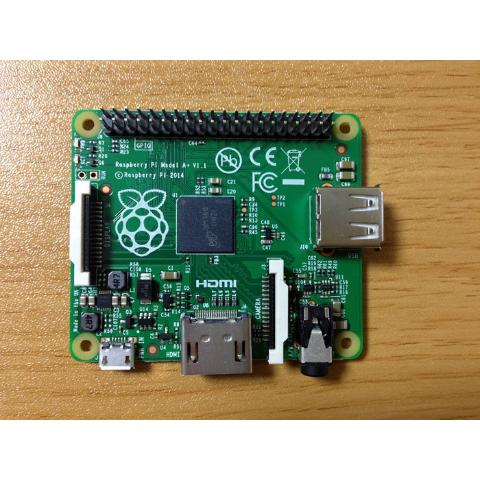Raspberry-Pi-1-Model-A-: (56, 98, 396, 388)
